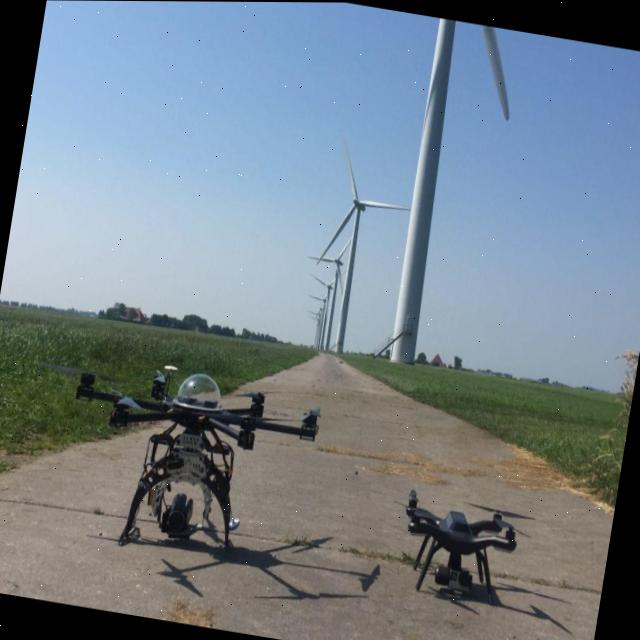drone: (0, 494, 600, 640), (374, 471, 546, 623)
